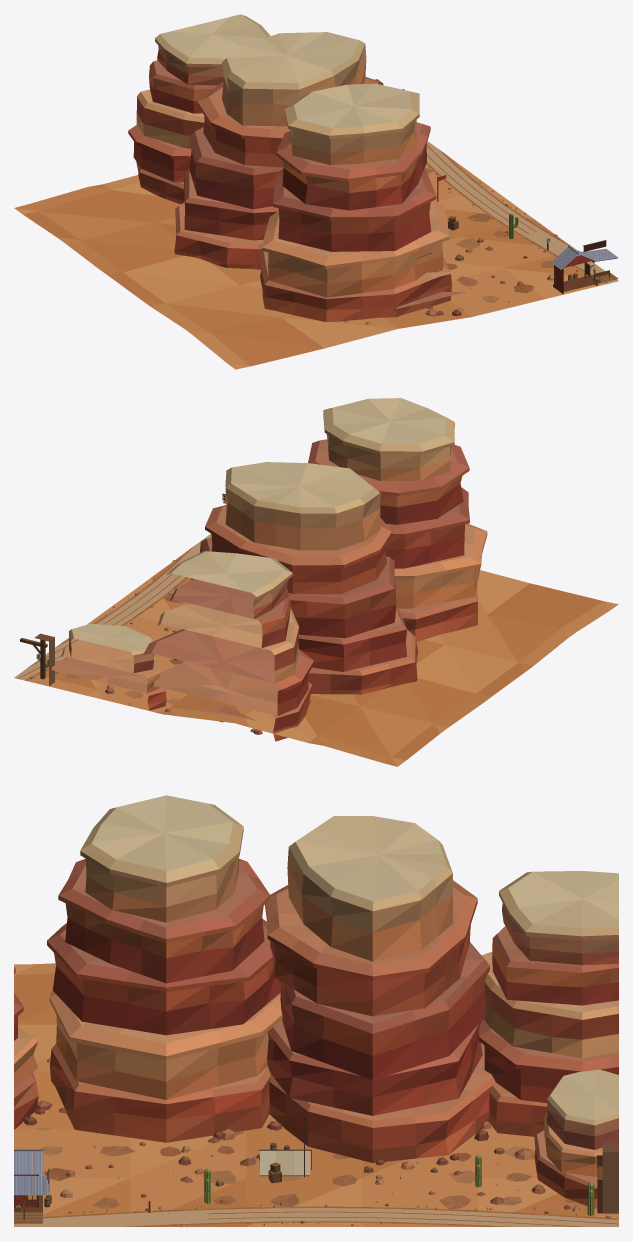
The picture shows the model from 3 angles, top to bottom: view 1: azimuth 30°, elevation 25°; view 2: azimuth 150°, elevation 25°; view 3: azimuth 270°, elevation 25°; orthographic projection. The views are drawn at different scales.
Visible parts, largest first — view 1: baked (×2); view 2: baked; view 3: baked (×2).
Boxes of the visible parts, box(x1,y1,x2,y2) form: baked (×2): box(14, 14, 618, 369); baked: box(14, 398, 618, 766); baked (×2): box(14, 795, 618, 1227).
Bounding box in the file's own units: 62.5 × 29.02 × 62.5.
